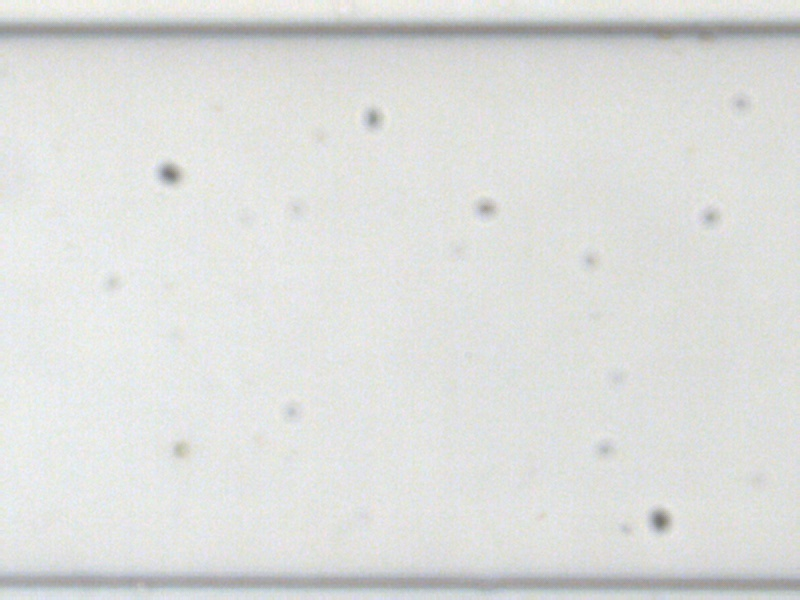Chlorella: (171, 441, 189, 457)
